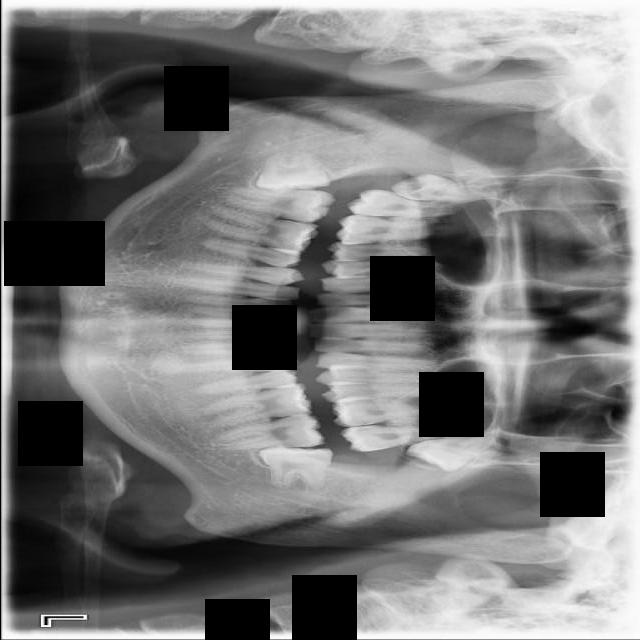3M ESPE Implant: (390, 171, 483, 207)
52: (395, 170, 428, 202)
73: (58, 616, 74, 624)
BioHorizons Implant: (337, 422, 464, 454)
BioLife Implant: (401, 426, 505, 480)
Biomet 3i Implant: (256, 446, 333, 494)
Blue Sky Bio Implant: (208, 414, 322, 456)
Caries: (346, 189, 460, 218)
Implant: (224, 182, 335, 226)
Keystone Dental Implant: (253, 148, 329, 196)
